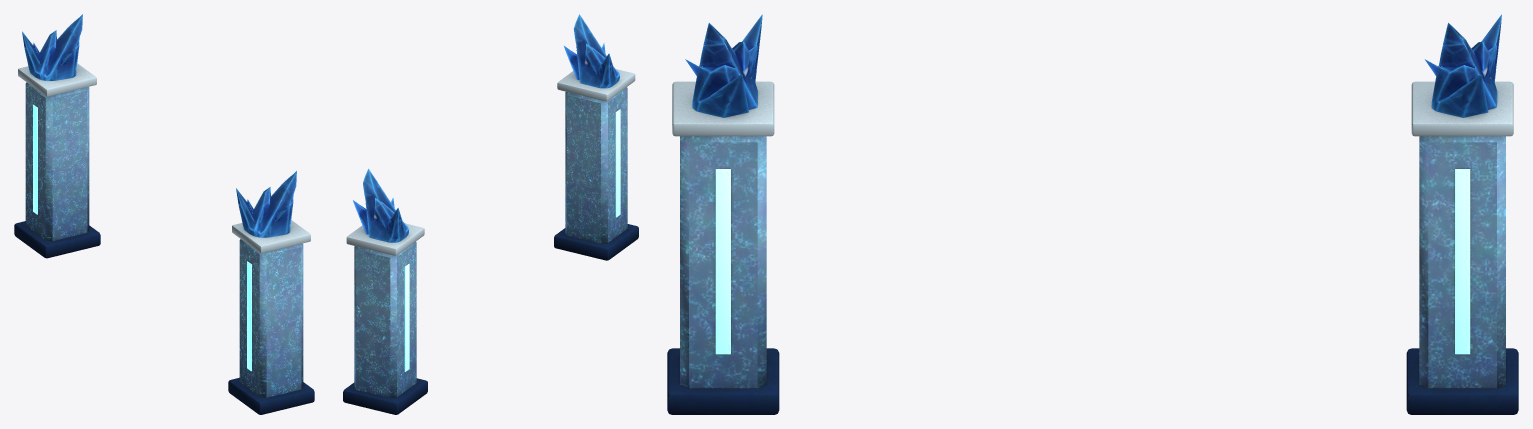
File: gate_frost.glb
3 views of the same model, side by side, from view 1: azimuth 30°, elevation 25°; view 2: azimuth 150°, elevation 25°; view 3: azimuth 270°, elevation 25° (orthographic). The views are drawn at different scales.
Parts seen in each view (by area): view 1: gate_frost; view 2: gate_frost; view 3: gate_frost.
Boxes of the visible parts, x1=… form: gate_frost: x1=14, y1=14, x2=314, y2=414; gate_frost: x1=343, y1=14, x2=638, y2=414; gate_frost: x1=667, y1=14, x2=1518, y2=414.
Bounding box in the file's own units: 4.4 × 16.82 × 33.4.
3 materials, 3 textured.
